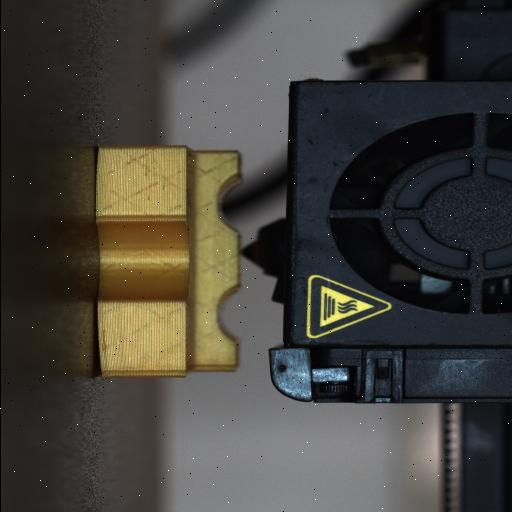warp: (90, 332, 118, 384)
